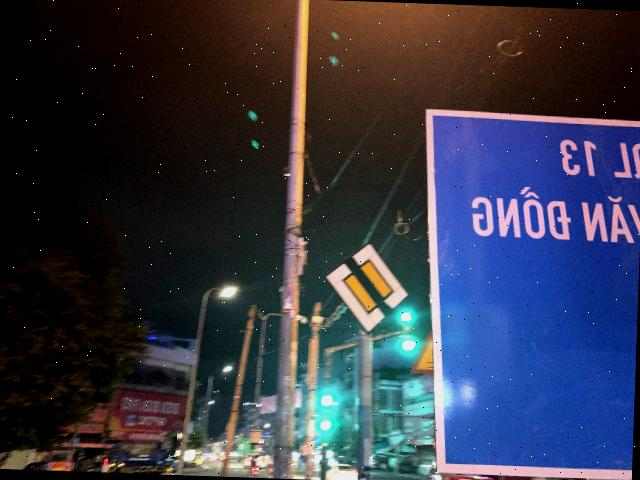het-duong-uu-tien: (322, 240, 412, 336)
